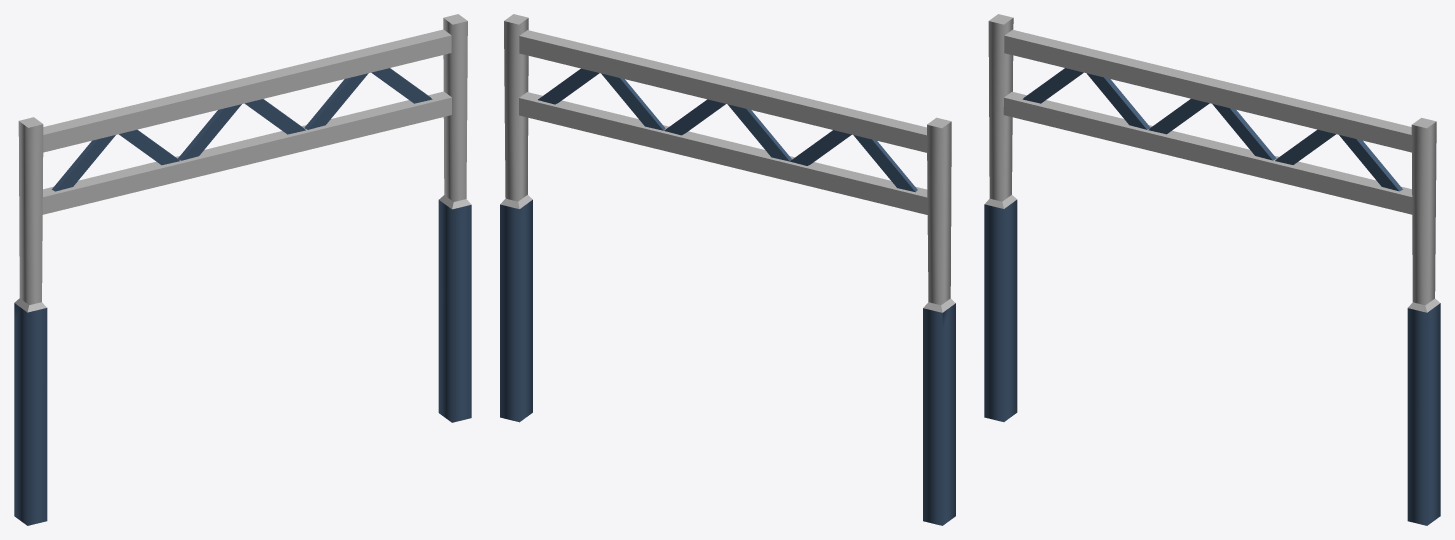
Rendered from SM_Road_part35.fbx.
3 renders of one model, left to right at view 1: azimuth 30°, elevation 25°; view 2: azimuth 150°, elevation 25°; view 3: azimuth 330°, elevation 25°, orthographic.
Parts seen in each view (by area): view 1: SM_Road_part35; view 2: SM_Road_part35; view 3: SM_Road_part35.
Boxes of the visible parts, left/top/right/bottom form: SM_Road_part35: left=14, top=14, right=471, bottom=525; SM_Road_part35: left=500, top=14, right=955, bottom=525; SM_Road_part35: left=984, top=14, right=1440, bottom=525.
Size of the model in its own units: 1475 by 1259 by 79.46.
